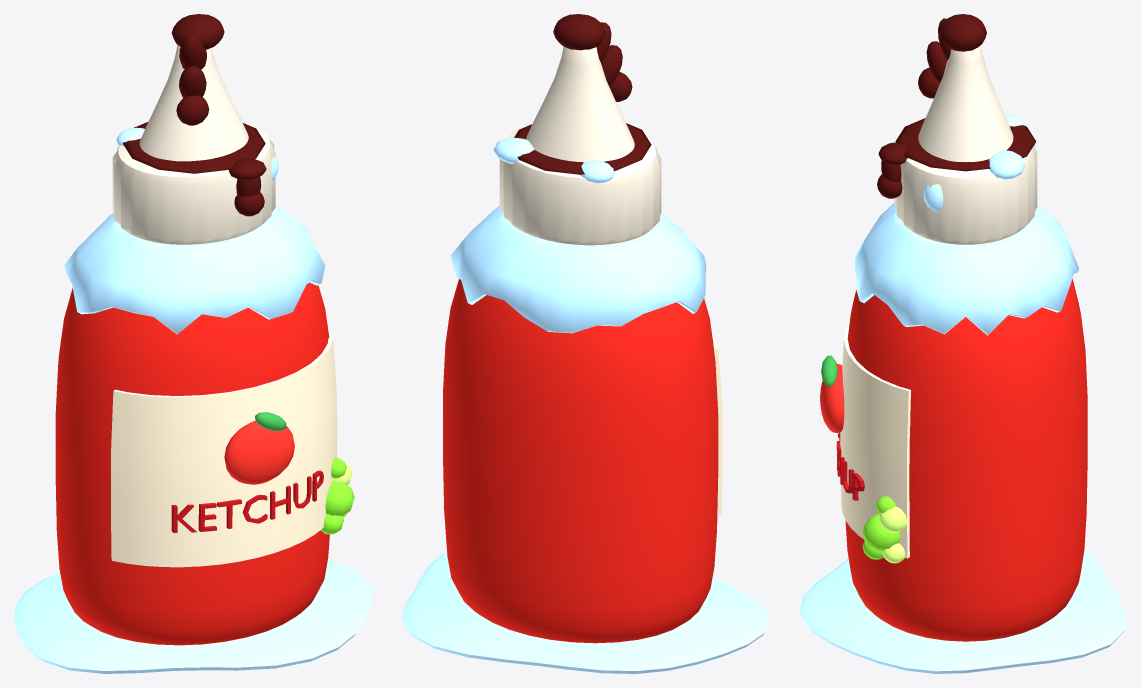
File: ketchup.glb
3 renders of one model, left to right at view 1: azimuth 30°, elevation 25°; view 2: azimuth 150°, elevation 25°; view 3: azimuth 270°, elevation 25°, orthographic.
Parts seen in each view (by area): view 1: ketchup_cuerpo, ketchup_etiqueta, ketchup_escarcha, ketchup_tapon, ketchup_charco, ketchup_costra, ketchup_tomate, ketchup_letras, ketchup_moho; view 2: ketchup_cuerpo, ketchup_escarcha, ketchup_tapon, ketchup_charco, ketchup_costra, ketchup_escarcha_tapon, ketchup_etiqueta; view 3: ketchup_cuerpo, ketchup_escarcha, ketchup_tapon, ketchup_charco, ketchup_etiqueta, ketchup_costra, ketchup_escarcha_tapon, ketchup_moho, ketchup_tomate, ketchup_moho_claro, ketchup_letras.
Part boxes in pixels (left/top/right/bottom): ketchup_cuerpo: left=55, top=282, right=329, bottom=645; ketchup_etiqueta: left=111, top=337, right=337, bottom=567; ketchup_escarcha: left=64, top=206, right=325, bottom=334; ketchup_tapon: left=112, top=45, right=275, bottom=244; ketchup_charco: left=14, top=559, right=372, bottom=673; ketchup_costra: left=123, top=14, right=266, bottom=216; ketchup_tomate: left=224, top=421, right=294, bottom=484; ketchup_letras: left=171, top=470, right=323, bottom=532; ketchup_moho: left=320, top=457, right=354, bottom=534; ketchup_cuerpo: left=443, top=279, right=718, bottom=643; ketchup_escarcha: left=451, top=206, right=706, bottom=333; ketchup_tapon: left=499, top=47, right=661, bottom=245; ketchup_charco: left=401, top=552, right=770, bottom=673; ketchup_costra: left=514, top=14, right=651, bottom=174; ketchup_escarcha_tapon: left=493, top=137, right=615, bottom=183; ketchup_etiqueta: left=712, top=334, right=722, bottom=516; ketchup_cuerpo: left=845, top=279, right=1087, bottom=641; ketchup_escarcha: left=855, top=203, right=1078, bottom=335; ketchup_tapon: left=894, top=45, right=1037, bottom=244; ketchup_charco: left=799, top=549, right=1126, bottom=673; ketchup_etiqueta: left=840, top=321, right=911, bottom=558; ketchup_costra: left=877, top=14, right=1036, bottom=198; ketchup_escarcha_tapon: left=923, top=114, right=1024, bottom=211; ketchup_moho: left=862, top=496, right=900, bottom=559; ketchup_tomate: left=820, top=364, right=844, bottom=432; ketchup_moho_claro: left=879, top=506, right=907, bottom=563; ketchup_letras: left=836, top=432, right=864, bottom=500.
Bounding box in the file's own units: 0.2621 × 0.4568 × 0.2318.
